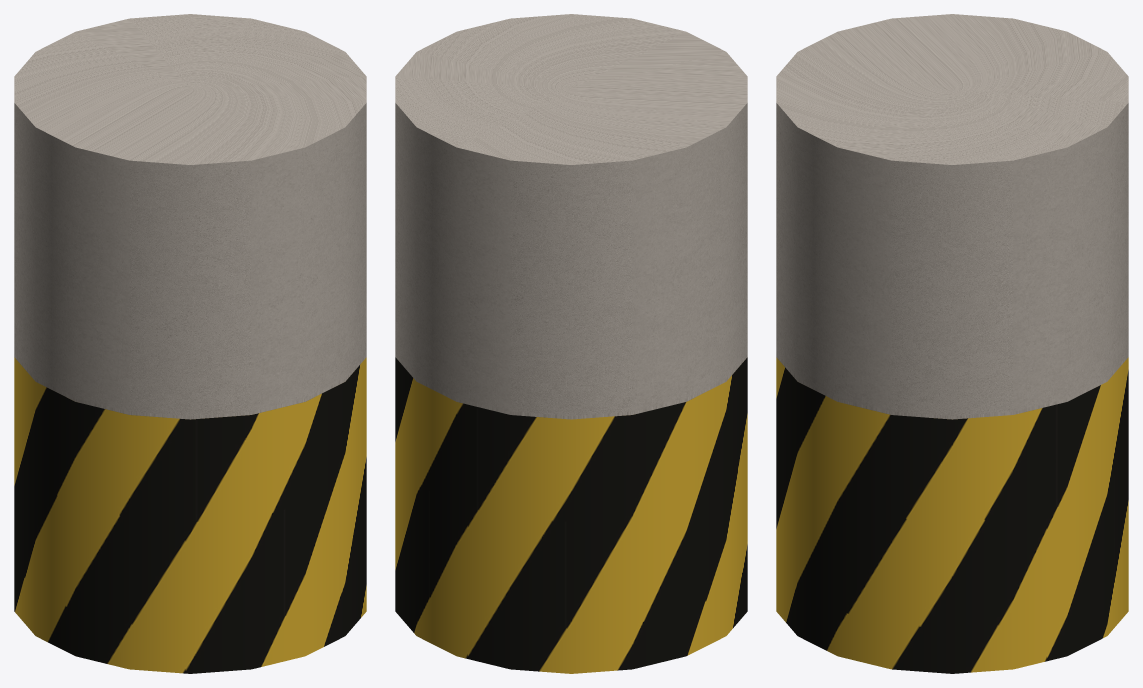
The model's file is Column_Big_Round.FBX.
3 views of the same model, side by side, from view 1: azimuth 30°, elevation 25°; view 2: azimuth 150°, elevation 25°; view 3: azimuth 270°, elevation 25° (orthographic).
Parts seen in each view (by area): view 1: Column_Up, Column_Down; view 2: Column_Up, Column_Down; view 3: Column_Up, Column_Down.
Boxes of the visible parts, box(x1,y1,x2,y2) form: Column_Up: box(14, 14, 366, 419); Column_Down: box(14, 357, 366, 673); Column_Up: box(395, 14, 747, 419); Column_Down: box(395, 357, 747, 673); Column_Up: box(776, 14, 1128, 419); Column_Down: box(776, 357, 1128, 673).
Bounding box in the file's own units: 1274 × 2000 × 1255.
